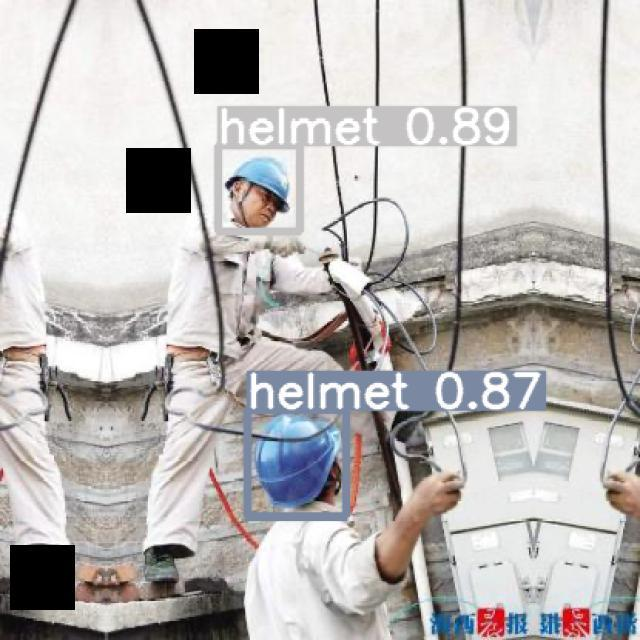blue helmet: (255, 415, 344, 513), (225, 157, 294, 215)
